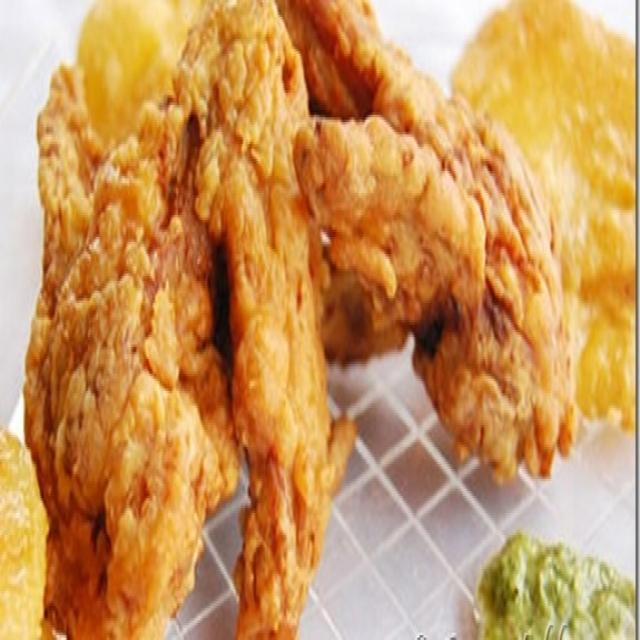Deep fried chicken wing: (37, 15, 575, 603)
